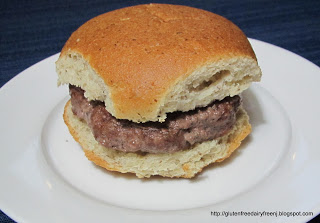hamburger_buns: (56, 9, 264, 185)
